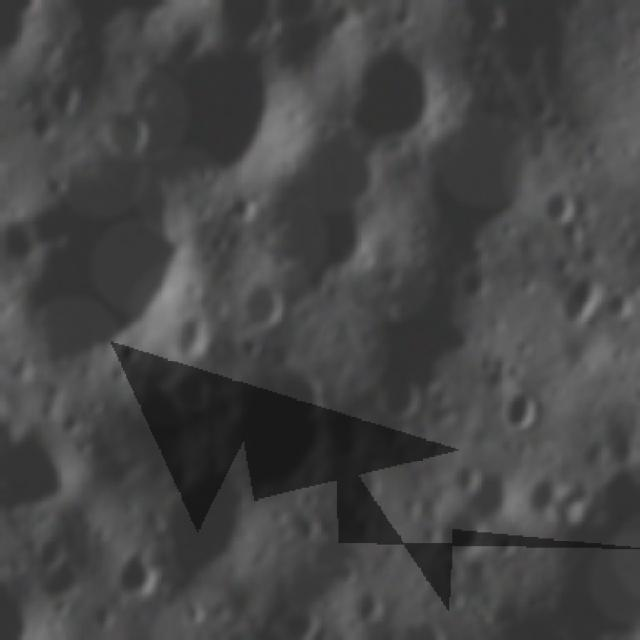crater: (0, 151, 200, 377), (131, 30, 286, 192), (412, 101, 554, 230), (149, 463, 269, 591), (334, 38, 460, 159), (232, 357, 342, 488), (0, 414, 89, 524), (96, 98, 155, 170), (366, 362, 426, 427), (555, 268, 611, 334), (110, 541, 164, 607), (433, 510, 496, 565), (233, 278, 285, 333), (499, 381, 548, 437), (168, 362, 217, 413), (514, 468, 558, 521), (534, 184, 581, 228), (42, 78, 86, 120), (345, 586, 389, 628), (223, 187, 265, 230), (446, 456, 486, 499), (436, 582, 472, 615)
